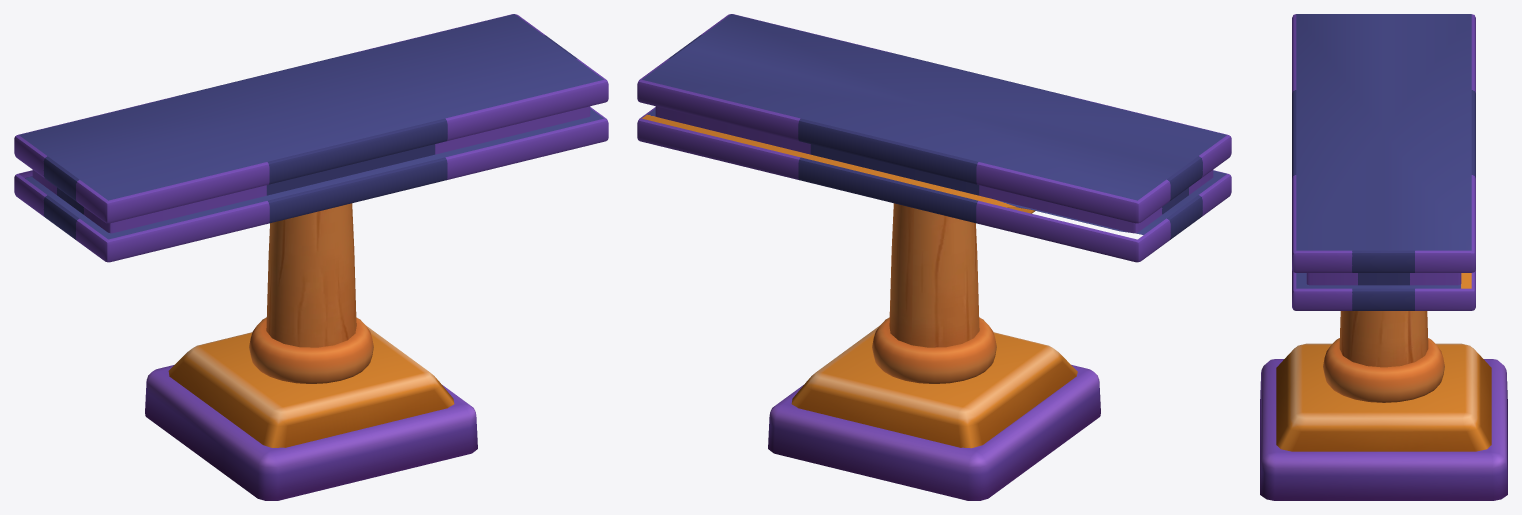
File: Table_S3.fbx
3 views of the same model, side by side, from view 1: azimuth 30°, elevation 25°; view 2: azimuth 150°, elevation 25°; view 3: azimuth 270°, elevation 25° (orthographic). The views are drawn at different scales.
Visible parts, largest first — view 1: mdl_Table_01_5, mdl_Table_01_9, Gold, Wood, Metal; view 2: mdl_Table_01_5, mdl_Table_01_9, Gold, Wood, Metal; view 3: mdl_Table_01_5, Gold, mdl_Table_01_9, Metal, Wood.
Boxes of the visible parts, bbox=[...] form: mdl_Table_01_5: bbox=[14, 14, 608, 262]; mdl_Table_01_9: bbox=[145, 365, 477, 500]; Gold: bbox=[168, 326, 454, 447]; Wood: bbox=[266, 203, 356, 347]; Metal: bbox=[249, 317, 373, 383]; mdl_Table_01_5: bbox=[637, 14, 1231, 262]; mdl_Table_01_9: bbox=[768, 364, 1100, 500]; Gold: bbox=[791, 326, 1077, 448]; Wood: bbox=[889, 203, 979, 347]; Metal: bbox=[872, 317, 996, 383]; mdl_Table_01_5: bbox=[1292, 14, 1475, 310]; Gold: bbox=[1276, 343, 1491, 451]; mdl_Table_01_9: bbox=[1260, 359, 1507, 500]; Metal: bbox=[1323, 338, 1444, 402]; Wood: bbox=[1339, 311, 1428, 367].
Bounding box in the file's own units: 310 × 190 × 135.
Materials: 2 (2 with a texture image).
